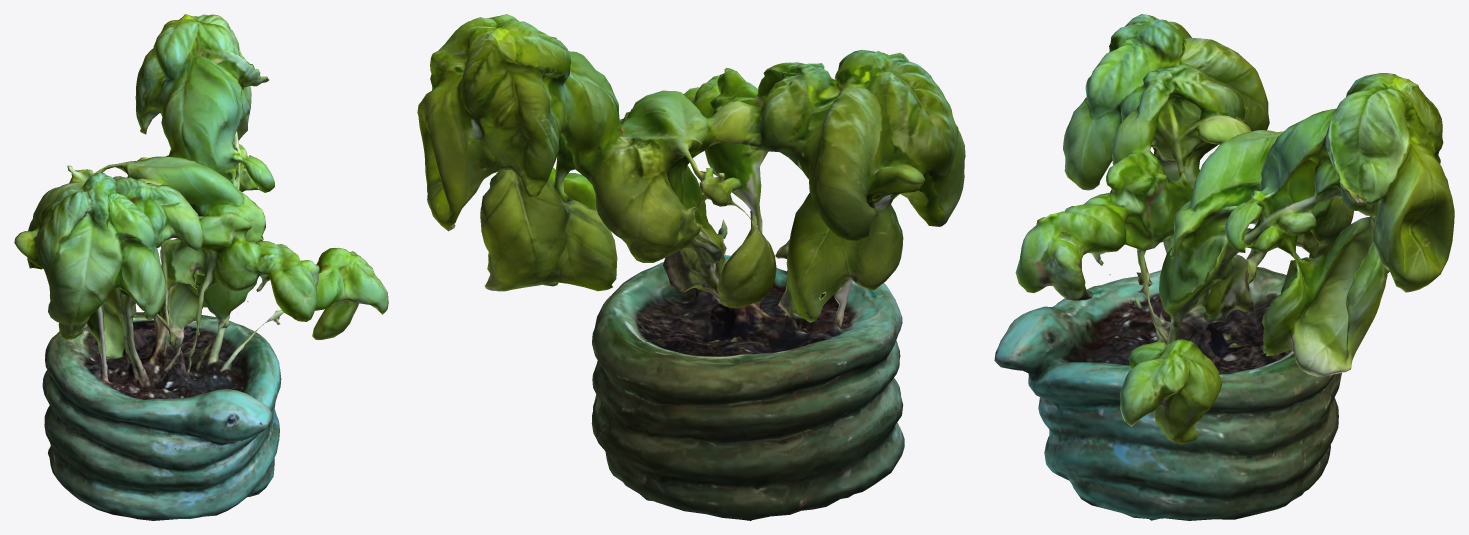
File: snake.glb
The picture shows the model from 3 angles, left to right: view 1: azimuth 30°, elevation 25°; view 2: azimuth 150°, elevation 25°; view 3: azimuth 270°, elevation 25°; orthographic projection. The views are drawn at different scales.
Bounding box in the file's own units: 0.2363 × 0.2455 × 0.2237.
Materials: 1 (1 with a texture image).
